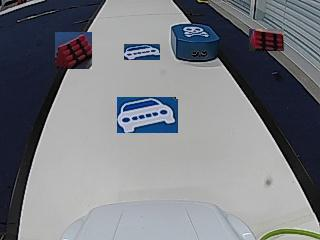danger: (183, 25, 208, 37)
